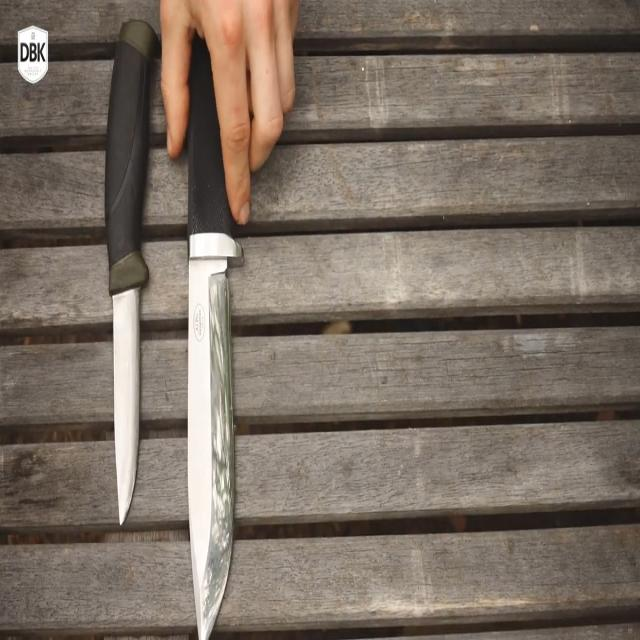knife: (183, 40, 241, 640), (108, 9, 160, 539)
